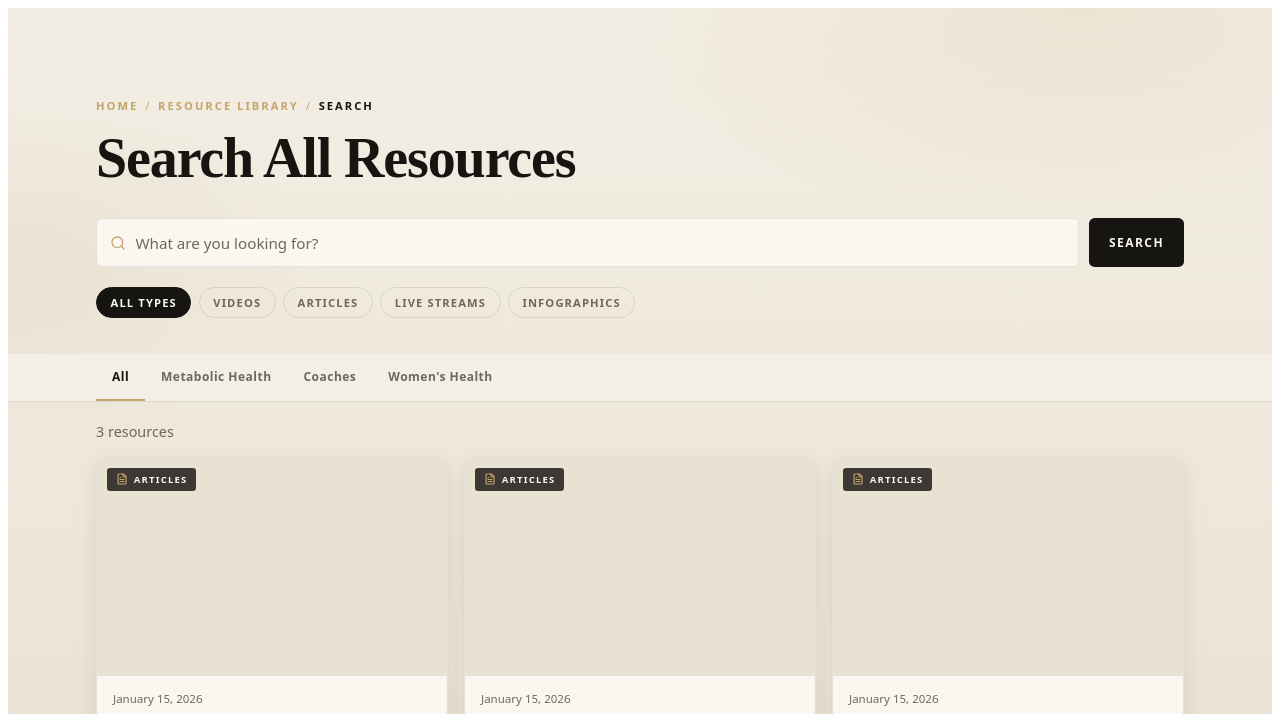
Test case: /library/search mount › SS10 clear filters resets query/pill/tab and refetches bare search
The width and height of the screenshot is (1280, 714).
Expected: the tab "Metabolic Health" is shown, [145,354,288,401]
Expected: the text "Clear filters" is not shown
Click the button "Videos" at (237, 303), box [199,287,276,318]
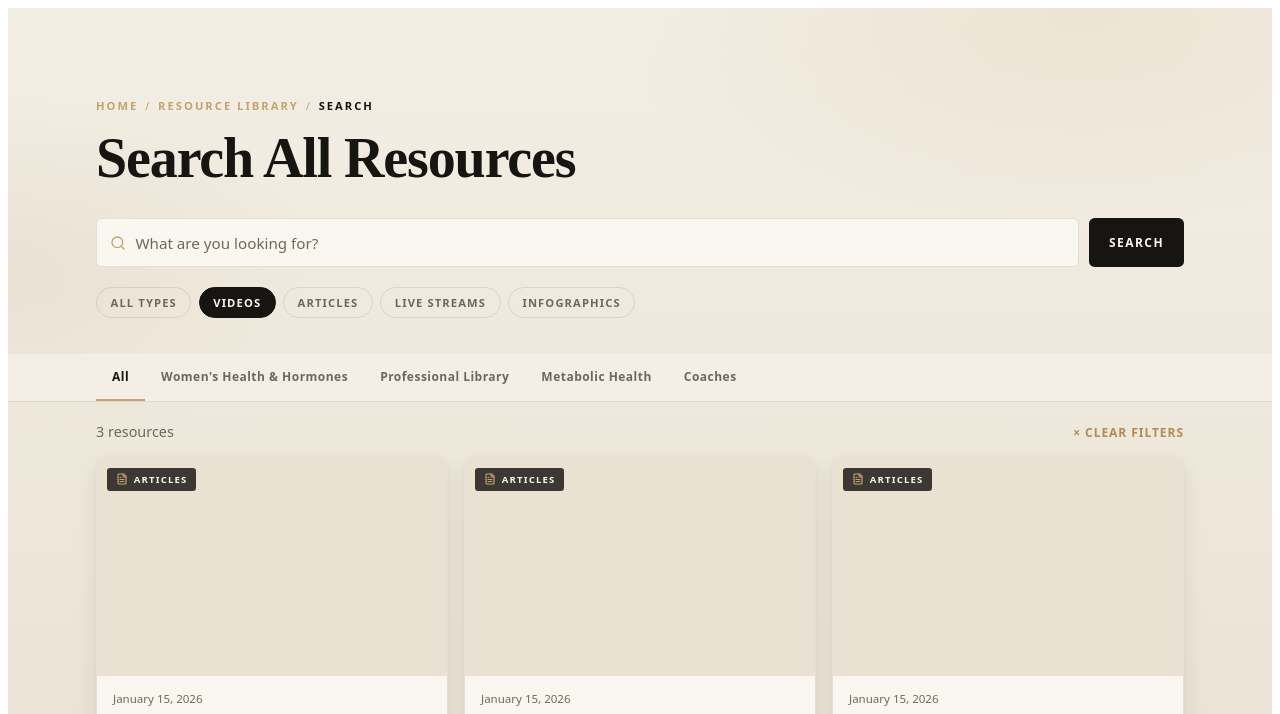
Expected: the button "× Clear filters" is shown
Click the button "× Clear filters" at (1129, 432), box [1073,424,1184,441]
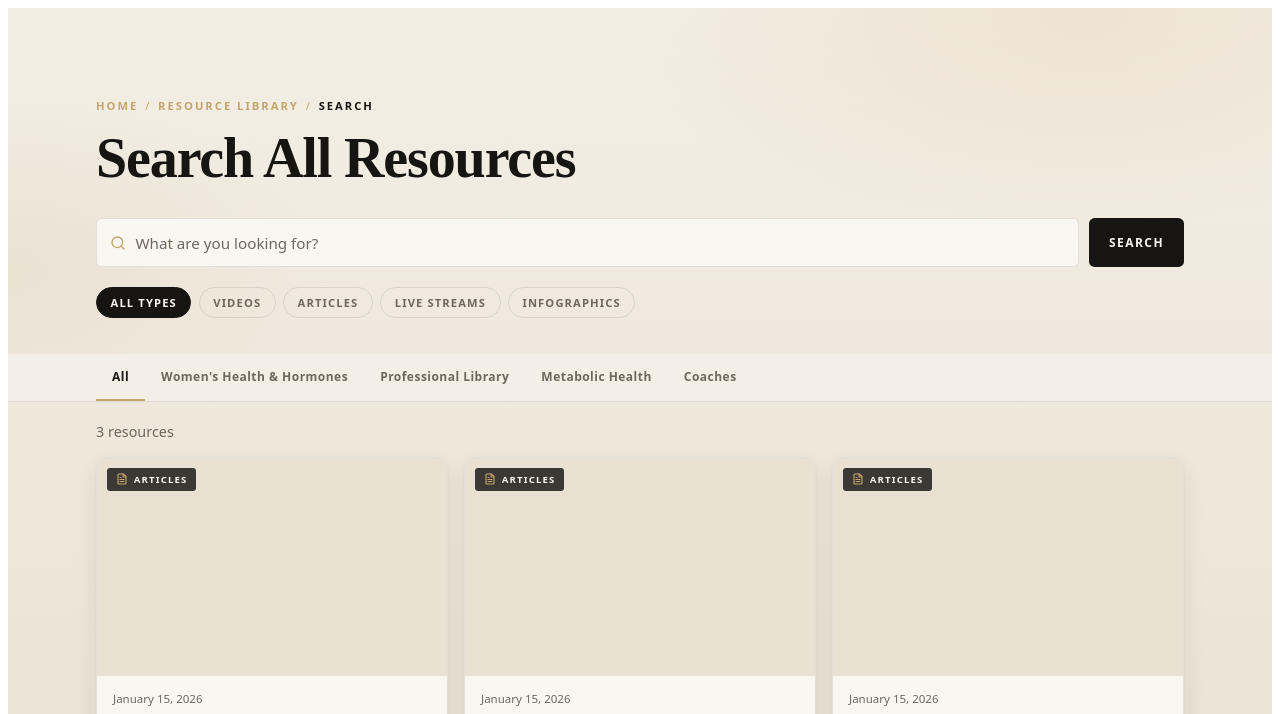
Expected: the button "Clear filters" is gone
